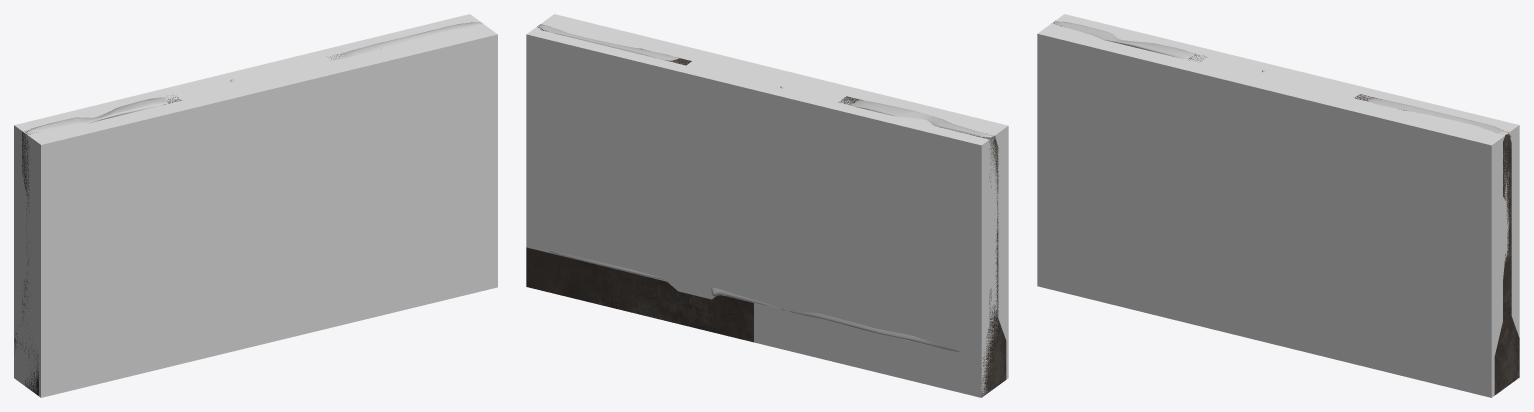
Rendered from Block_Wall.fbx.
3 views of the same model, side by side, from view 1: azimuth 30°, elevation 25°; view 2: azimuth 150°, elevation 25°; view 3: azimuth 330°, elevation 25° (orthographic).
Parts seen in each view (by area): view 1: Block_Wall_col, snow, Block_Wall; view 2: Block_Wall_col, Block_Wall, snow; view 3: Block_Wall_col, Block_Wall, snow.
Boxes of the visible parts, bbox=[...] form: Block_Wall_col: bbox=[14, 14, 497, 397]; snow: bbox=[26, 22, 482, 139]; Block_Wall: bbox=[14, 53, 344, 395]; Block_Wall_col: bbox=[526, 14, 1008, 397]; Block_Wall: bbox=[526, 24, 1006, 397]; snow: bbox=[538, 24, 995, 351]; Block_Wall_col: bbox=[1037, 14, 1519, 397]; Block_Wall: bbox=[1051, 20, 1519, 395]; snow: bbox=[1053, 21, 1511, 137].
Bounding box in the file's own units: 315 × 168 × 34.63.
